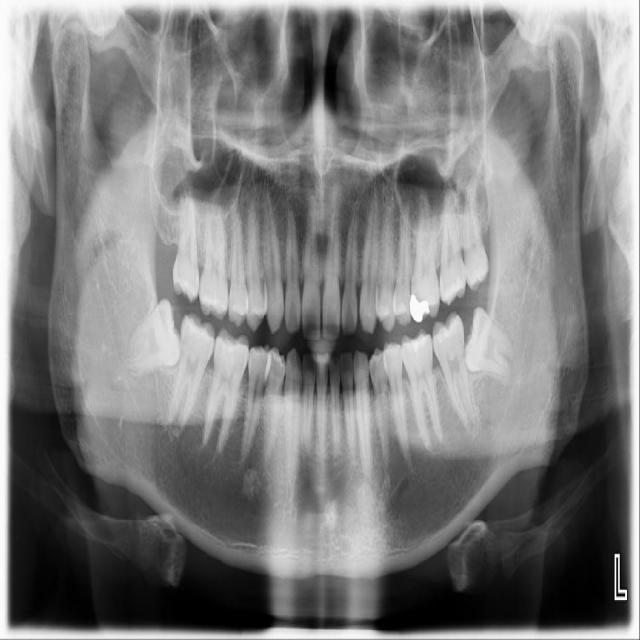Filling: (407, 290, 431, 322)
impacted tooth: (124, 294, 180, 373), (464, 305, 517, 378)
